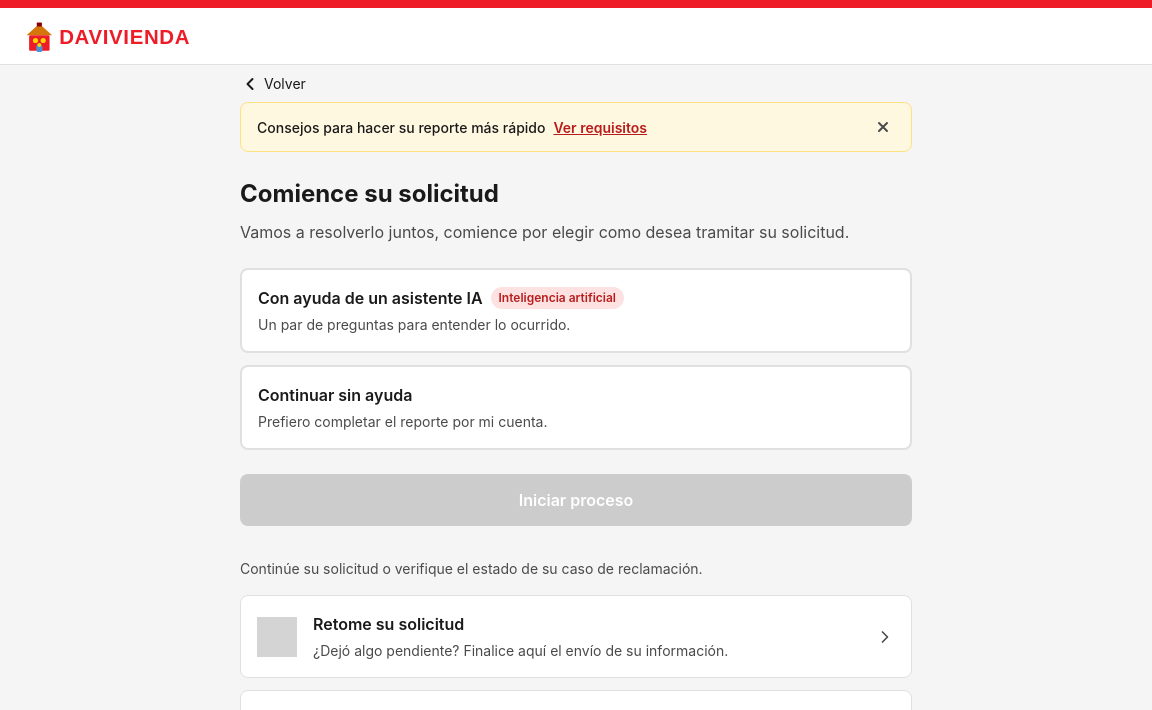
ClaimLandingPage - Integration › cerrar banner no afecta el resto de la página
Expected: the text "Consejos para hacer su reporte más rápido" is shown, [257,116,545,138]
Close banner
Click the button named "Cerrar banner" at (883, 127), box [871,115,895,139]
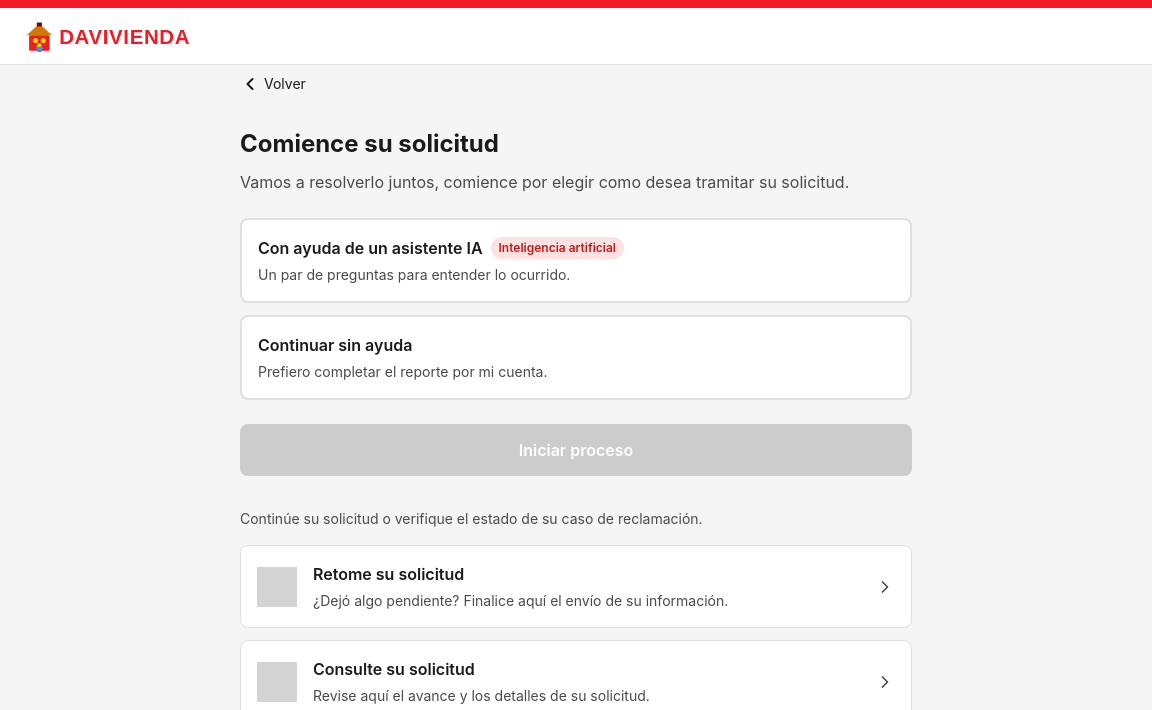
Expected: the heading "Comience su solicitud" is shown, [240,129,499,158]
Expected: the text "Consejos para hacer su reporte más rápido" is gone
